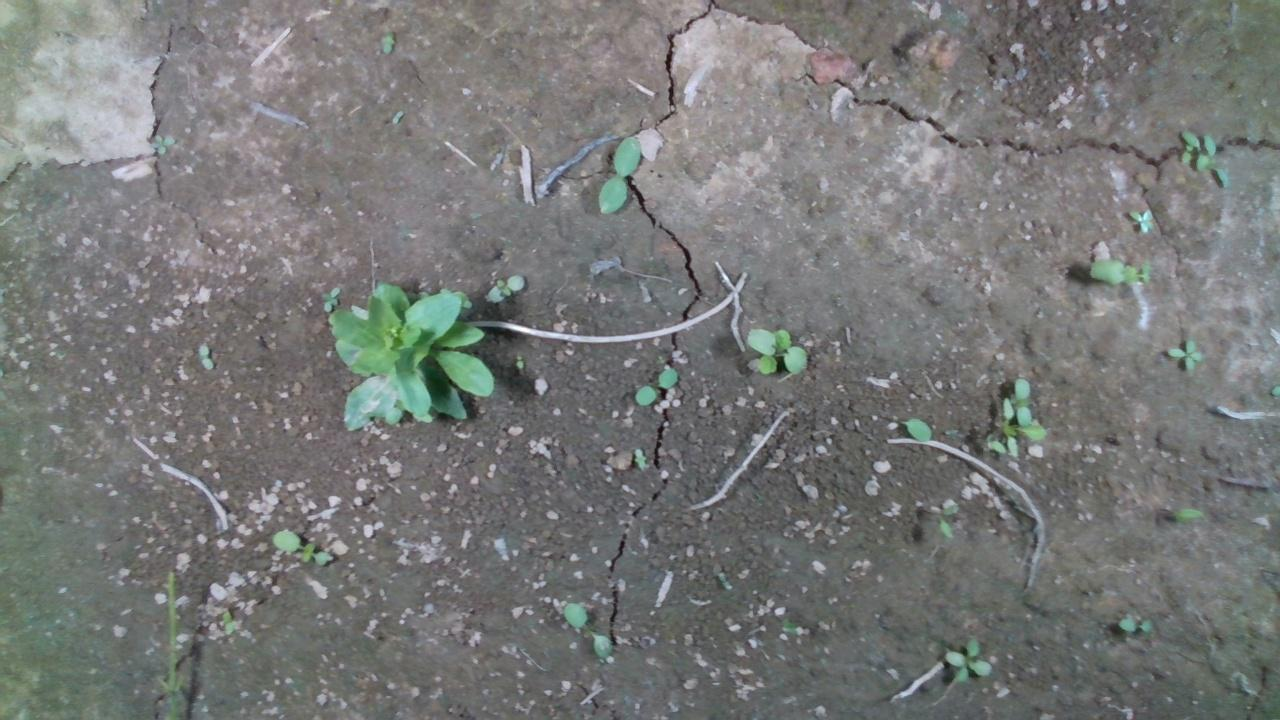weed: (595, 133, 640, 213), (742, 324, 808, 376), (942, 633, 992, 683), (268, 527, 332, 566), (633, 366, 679, 404), (1164, 337, 1203, 374), (481, 271, 526, 303), (1116, 610, 1154, 633), (1124, 206, 1154, 234), (319, 283, 340, 312), (195, 341, 213, 371)
